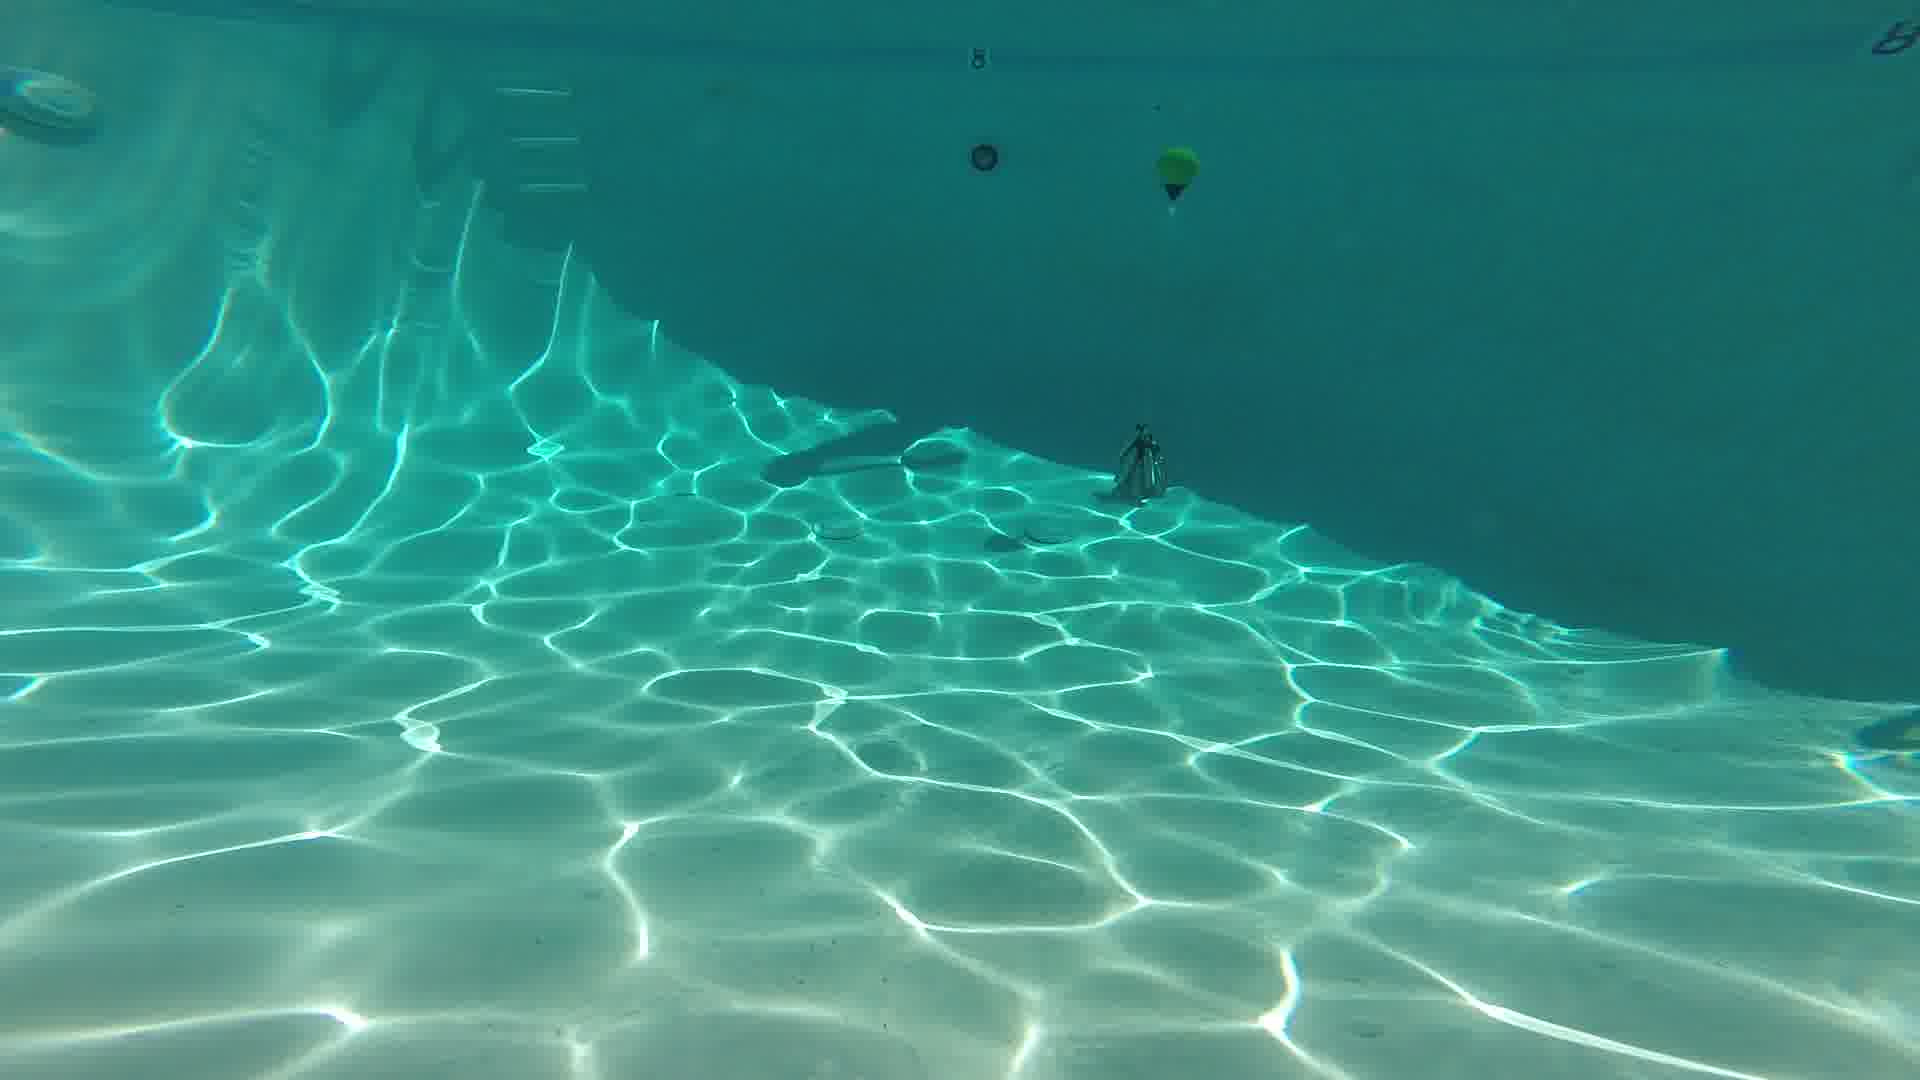yellow_buoy: (1160, 146, 1196, 200)
